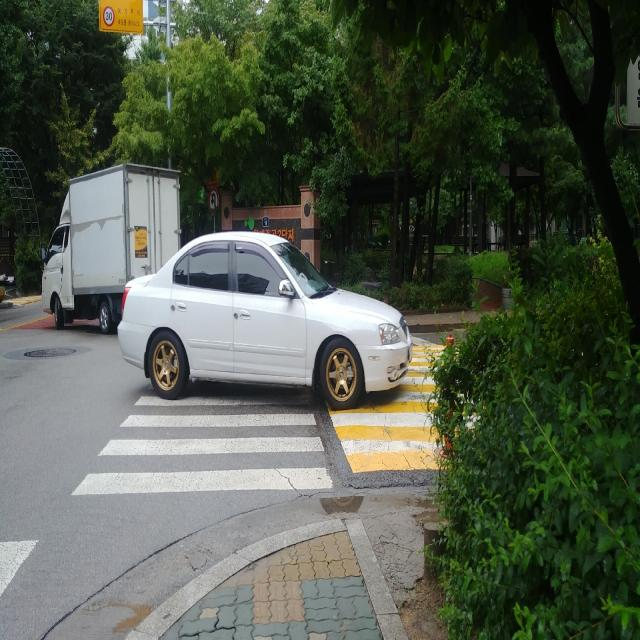횡단보도: (70, 392, 333, 498)
